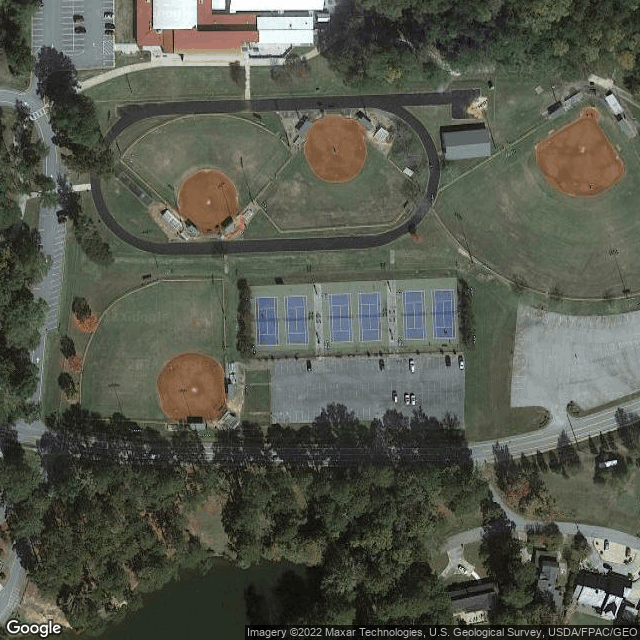Court: (401, 289, 427, 341), (254, 297, 279, 348), (327, 292, 352, 343), (358, 291, 381, 343), (285, 295, 308, 346), (432, 289, 455, 340)
